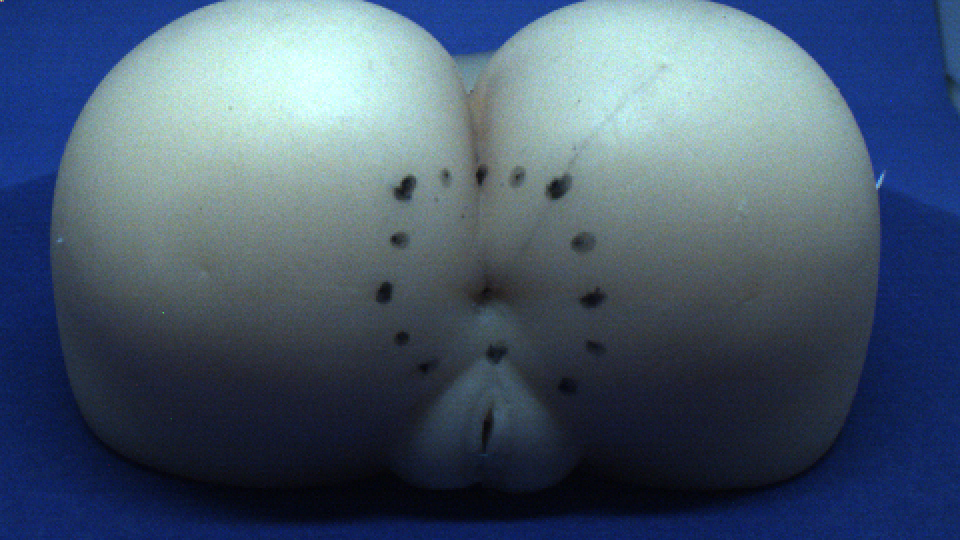asarp_marker: (388, 167, 421, 202), (480, 341, 511, 366), (390, 226, 417, 254), (434, 167, 462, 192), (545, 180, 575, 202), (577, 288, 608, 308), (560, 371, 584, 396), (583, 334, 609, 357), (391, 326, 417, 348), (570, 232, 595, 254), (416, 359, 444, 378), (508, 165, 528, 190), (374, 282, 395, 304), (474, 163, 493, 187)
